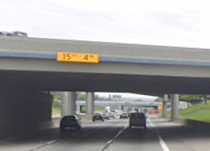1: (62, 52, 66, 60)
4: (81, 53, 89, 62)
5: (65, 52, 71, 61)
overheadsign: (56, 51, 99, 64)
